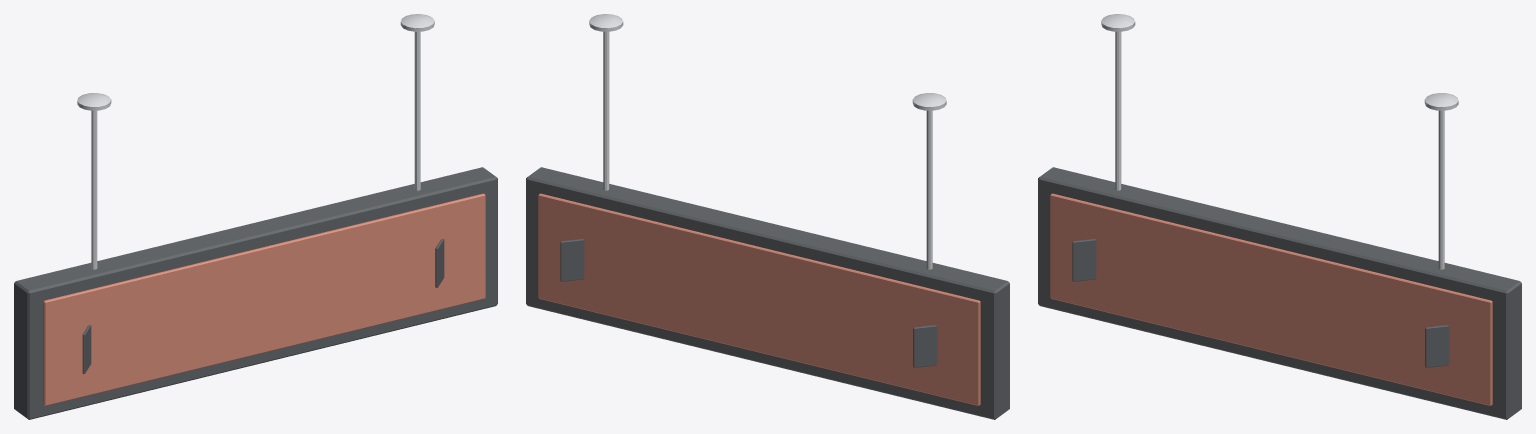
Rendered from SM_Retail_25371_HangingWayfindingSign.fbx.
3 views of the same model, side by side, from view 1: azimuth 30°, elevation 25°; view 2: azimuth 150°, elevation 25°; view 3: azimuth 330°, elevation 25° (orthographic).
Visible parts, largest first — view 1: SM_Retail_25371_HangingWayfindingSign; view 2: SM_Retail_25371_HangingWayfindingSign; view 3: SM_Retail_25371_HangingWayfindingSign.
Part boxes in pixels (x1=…): SM_Retail_25371_HangingWayfindingSign: x1=14, y1=14, x2=497, y2=419; SM_Retail_25371_HangingWayfindingSign: x1=526, y1=14, x2=1009, y2=419; SM_Retail_25371_HangingWayfindingSign: x1=1038, y1=14, x2=1521, y2=419.
Size of the model in its own units: 160 by 21.07 by 97.5.
